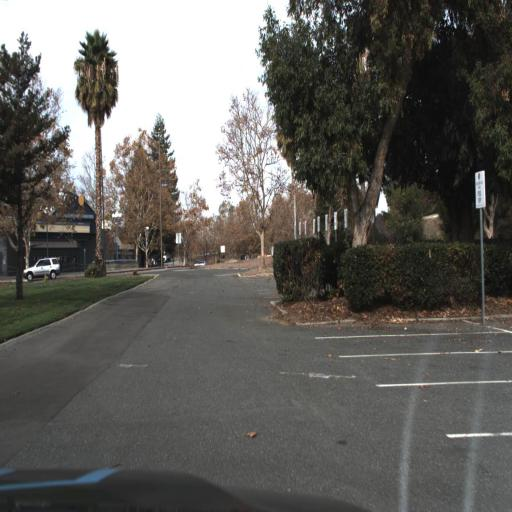car: (21, 254, 61, 285)
